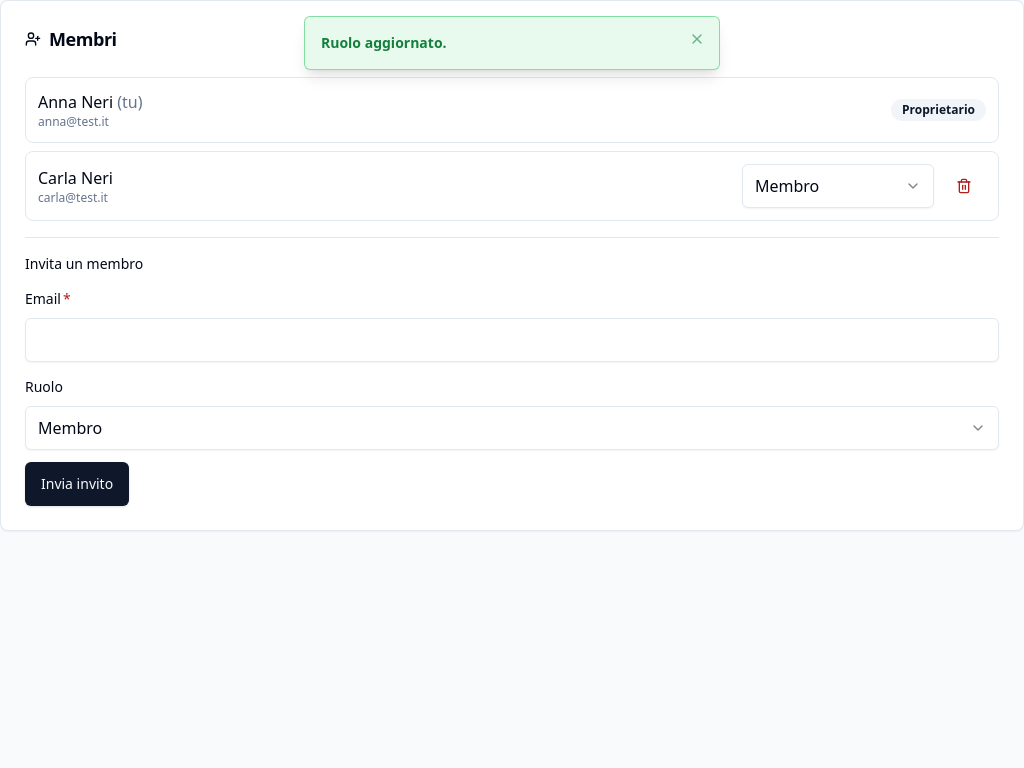
Test: MembersCard — layout mobile e rimozione › la conferma di rimozione dice che i veicoli passano a chi rimuove e suggerisce di trasferirli prima
The width and height of the screenshot is (1024, 768).
Click the button named "Rimuovi".
click(964, 186)  # box [942,164,986,208]
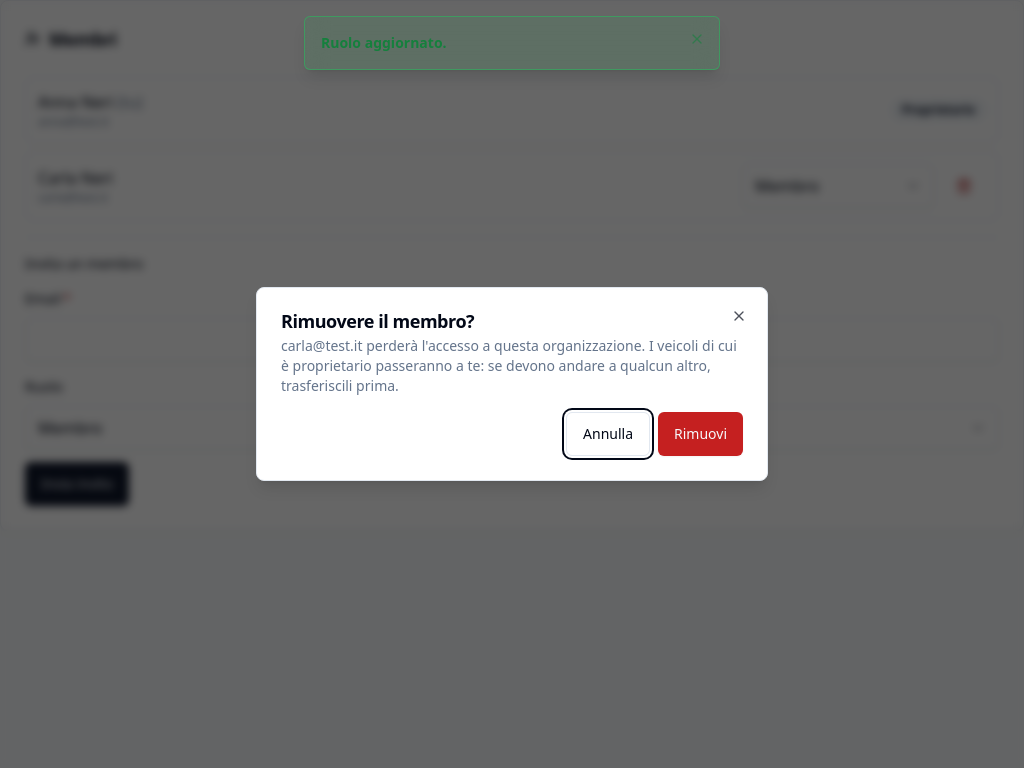
Check: the dialog shows "passeranno a te", box [281,336,737,395]
Check: the dialog shows "trasferiscili prima", box [281,336,737,395]
